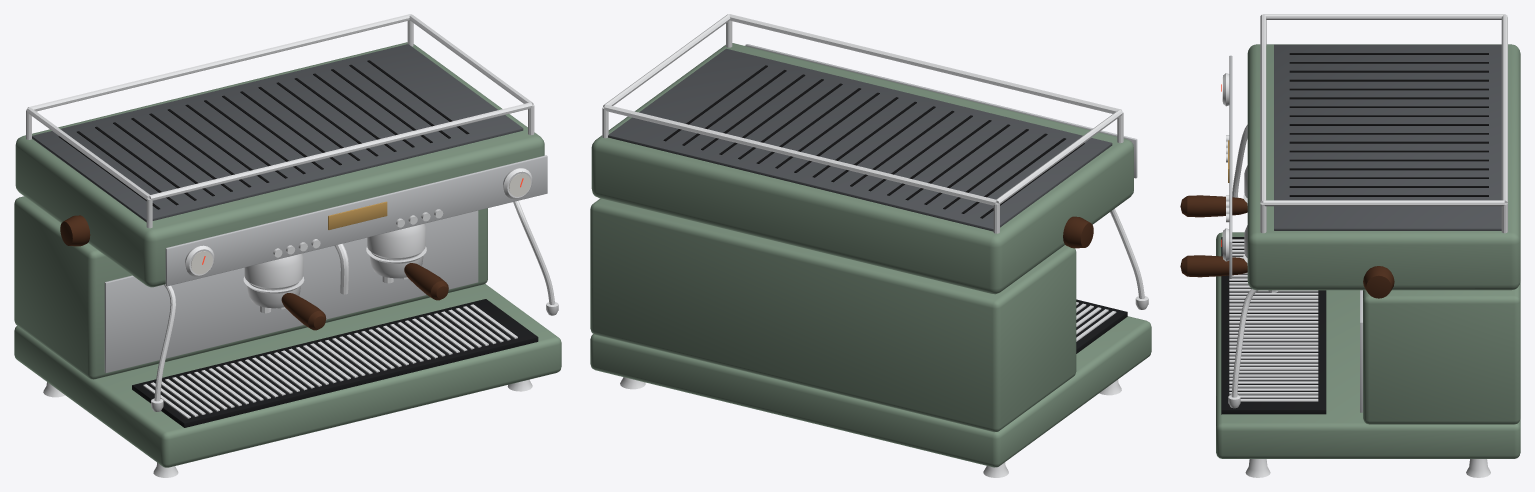
File: espresso_sage.glb
The picture shows the model from 3 angles, left to right: view 1: azimuth 30°, elevation 25°; view 2: azimuth 150°, elevation 25°; view 3: azimuth 270°, elevation 25°; orthographic projection. The views are drawn at different scales.
Parts seen in each view (by area): view 1: sage_2g; view 2: sage_2g; view 3: sage_2g.
Boxes of the visible parts, box(x1,y1,x2,y2) form: sage_2g: box(14, 14, 561, 477); sage_2g: box(590, 14, 1151, 477); sage_2g: box(1180, 14, 1520, 477).
Bounding box in the file's own units: 0.96 × 0.5859 × 0.648.
